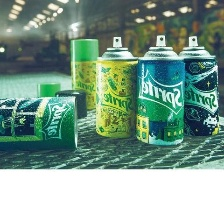aerosol_cans: (133, 32, 188, 150), (171, 32, 221, 139), (94, 33, 143, 140), (0, 91, 83, 153), (65, 35, 103, 111)
